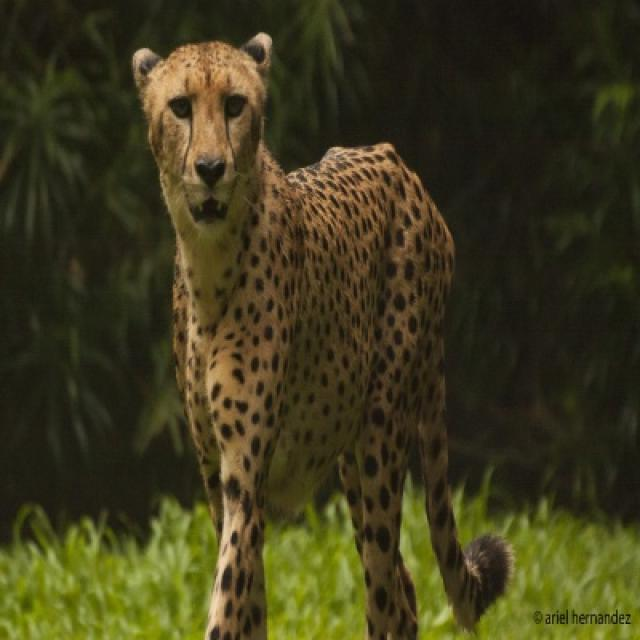Cheetah: (130, 35, 514, 638)
